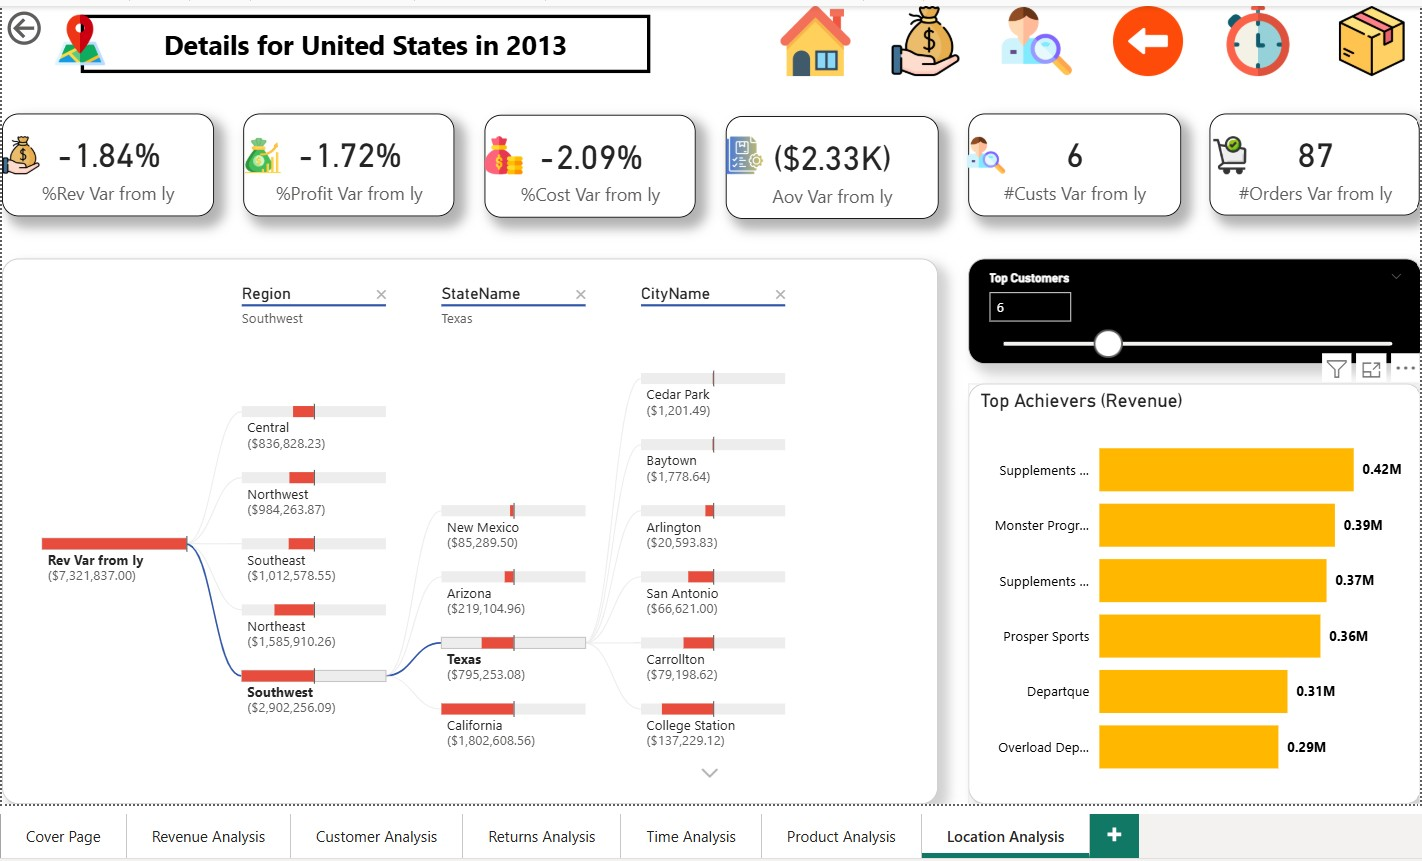

Layout of this report page (visuals, bound fields, positions):
{"tool":"powerbi","page":{"name":"Location Analysis","canvas":[1280,720],"ordinal":6},"visuals":[{"type":"card","fields":{"Values":["Calculations.%Rev Var from ly"]},"box":[0,96.9,191,92.6],"z":0},{"type":"card","fields":{"Values":["Calculations.%Cost Var from ly"]},"box":[435.1,98,190.7,93],"z":1000},{"type":"card","fields":{"Values":["Calculations.#Orders Var from ly"]},"box":[1089.3,97.3,190.7,91.9],"z":2000},{"type":"card","fields":{"Values":["Calculations.%Profit Var from ly"]},"box":[217.7,96.5,190.7,93],"z":3000},{"type":"card","fields":{"Values":["Calculations.Aov Var from ly"]},"box":[652.5,98.8,191.9,93],"z":4000},{"type":"card","fields":{"Values":["Calculations.#Custs Var from ly"]},"box":[871,97.3,191.9,93],"z":5000},{"type":"decompositionTreeVisual","fields":{"Analyze":["Calculations.Rev Var from ly"],"ExplainBy":["Customers.Region","Customers.StateName","Customers.CityName"]},"box":[0,227.9,844.2,491.9],"z":6000},{"type":"actionButton","box":[0,0,100,40],"z":7000},{"type":"slicer","fields":{"Values":["Top Customers.Top Customers"]},"box":[870.9,227.9,409.3,95.3],"z":8000},{"type":"clusteredBarChart","title":"Top Achievers (Revenue)","fields":{"Y":["Calculations.Top Achiever (Revenue)"],"Category":["Customers.Customer"]},"box":[870.9,340.7,409.3,379.1],"z":9000},{"type":"actionButton","box":[70.9,8,513.6,52.6],"z":10000},{"type":"image","box":[687,0,92,63],"z":11000},{"type":"image","box":[787,0,92,63],"z":12000},{"type":"image","box":[887,0,92,63],"z":13000},{"type":"image","box":[987,0,92,63],"z":14000},{"type":"image","box":[1087,0,92,63],"z":15000},{"type":"image","box":[1188.6,0,91.7,63.6],"z":16000},{"type":"image","box":[45.2,8,50.1,45.2],"z":17000},{"type":"image","box":[0,114.9,34.2,39.1],"z":18000},{"type":"image","box":[217.7,114.9,34.2,39.1],"z":19000},{"type":"image","box":[435.3,114.9,34.2,39.1],"z":20000},{"type":"image","box":[653,114.9,34.2,39.1],"z":21000},{"type":"image","box":[870.7,114.9,34.2,39.1],"z":22000},{"type":"image","box":[1089.5,114.9,34.2,39.1],"z":23000}]}

Visuals, with their boxes on the page's 1280x720 design canvas (x1, y1, x2, y2). These are canvas units, not pixel positions in the 1422x861 screenshot, which may show the page scaled, cropped or inside an application window:
card - Calculations.%Rev Var from ly: l=0, t=97, r=191, b=190
card - Calculations.%Cost Var from ly: l=435, t=98, r=626, b=191
card - Calculations.#Orders Var from ly: l=1089, t=97, r=1280, b=189
card - Calculations.%Profit Var from ly: l=218, t=96, r=408, b=190
card - Calculations.Aov Var from ly: l=652, t=99, r=844, b=192
card - Calculations.#Custs Var from ly: l=871, t=97, r=1063, b=190
decompositionTreeVisual - Calculations.Rev Var from ly x Customers.Region: l=0, t=228, r=844, b=720
actionButton: l=0, t=0, r=100, b=40
slicer - Top Customers.Top Customers: l=871, t=228, r=1280, b=323
"Top Achievers (Revenue)" clusteredBarChart: l=871, t=341, r=1280, b=720
actionButton: l=71, t=8, r=584, b=61
image: l=687, t=0, r=779, b=63
image: l=787, t=0, r=879, b=63
image: l=887, t=0, r=979, b=63
image: l=987, t=0, r=1079, b=63
image: l=1087, t=0, r=1179, b=63
image: l=1189, t=0, r=1280, b=64
image: l=45, t=8, r=95, b=53
image: l=0, t=115, r=34, b=154
image: l=218, t=115, r=252, b=154
image: l=435, t=115, r=470, b=154
image: l=653, t=115, r=687, b=154
image: l=871, t=115, r=905, b=154
image: l=1090, t=115, r=1124, b=154
